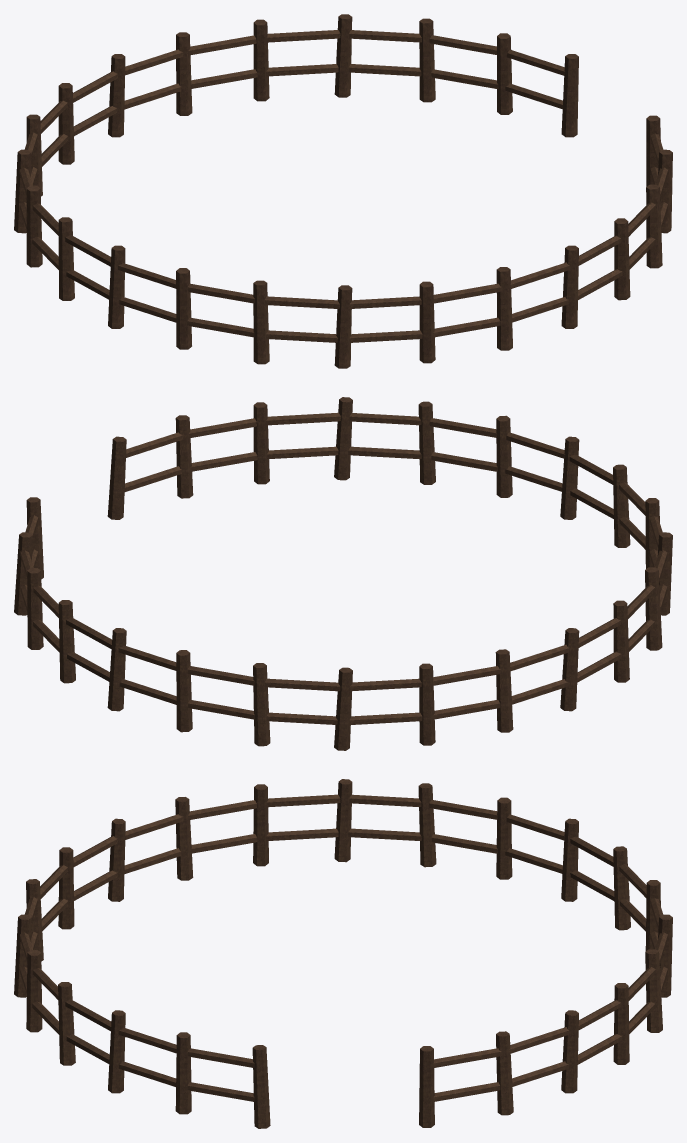
3 views of the same model, one above another, from view 1: azimuth 30°, elevation 25°; view 2: azimuth 150°, elevation 25°; view 3: azimuth 270°, elevation 25° (orthographic).
Parts seen in each view (by area): view 1: Fence_Post_01; view 2: Fence_Post_01; view 3: Fence_Post_01.
Boxes of the visible parts, left/top/right/bottom form: Fence_Post_01: left=14, top=14, right=672, bottom=368; Fence_Post_01: left=14, top=397, right=672, bottom=750; Fence_Post_01: left=14, top=779, right=672, bottom=1128.
Size of the model in its own units: 12.08 by 1.61 by 12.34.
Materials: 1 (1 with a texture image).
